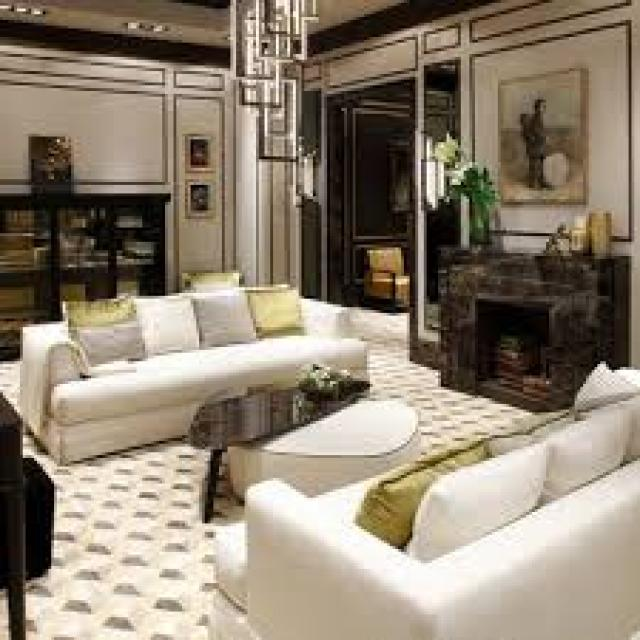Lamp: (227, 2, 328, 176)
Sofa: (222, 361, 637, 640), (16, 296, 369, 449)
Table: (168, 354, 428, 500)
